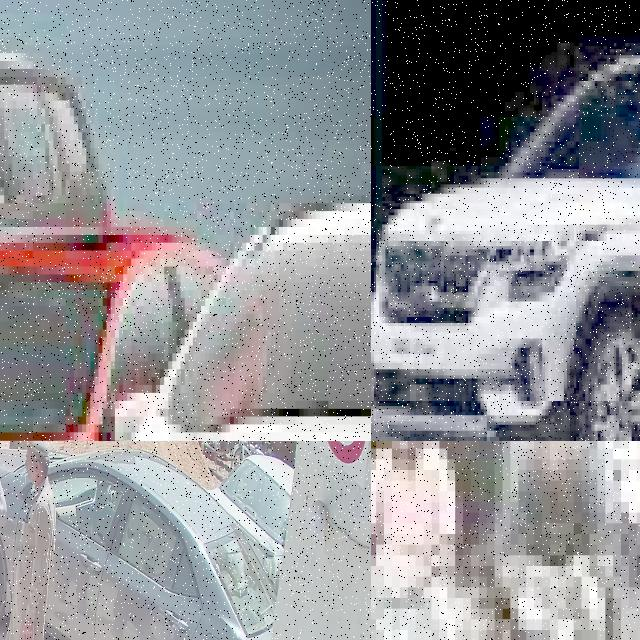bike: (371, 555, 470, 640), (534, 544, 613, 640), (192, 441, 248, 458), (245, 441, 286, 458)
car: (16, 100, 371, 441), (371, 0, 640, 441), (0, 447, 277, 640), (213, 455, 290, 585)
